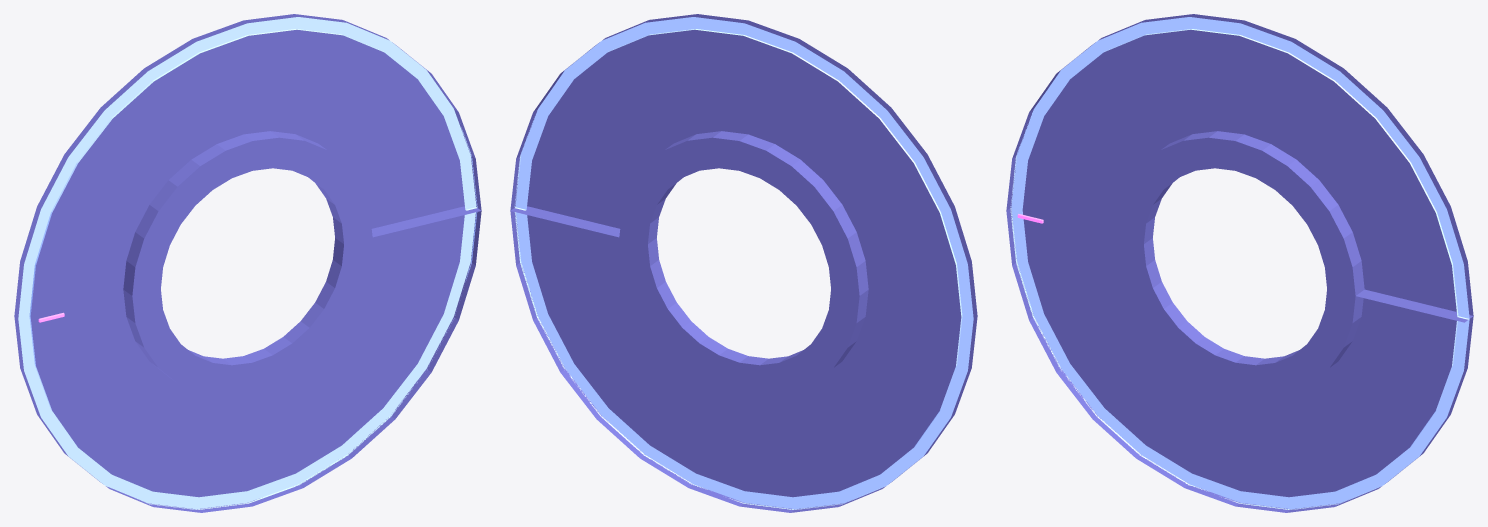
Rendered from prism-panel-fun8-low.glb.
The picture shows the model from 3 angles, left to right: view 1: azimuth 30°, elevation 25°; view 2: azimuth 150°, elevation 25°; view 3: azimuth 330°, elevation 25°; orthographic projection.
Visible parts, largest first — view 1: RENDER_PANEL_SHELL, RENDER_PANEL_FRAME; view 2: RENDER_PANEL_SHELL, RENDER_PANEL_FRAME; view 3: RENDER_PANEL_SHELL, RENDER_PANEL_FRAME.
Part boxes in pixels (x1,y1,x2,y2): RENDER_PANEL_SHELL: [14, 14, 481, 512]; RENDER_PANEL_FRAME: [18, 17, 477, 509]; RENDER_PANEL_SHELL: [510, 14, 977, 512]; RENDER_PANEL_FRAME: [514, 17, 973, 509]; RENDER_PANEL_SHELL: [1006, 14, 1473, 512]; RENDER_PANEL_FRAME: [1010, 17, 1469, 509].
Size of what is drawn, in the model's own units: 41 by 41 by 1.81.
